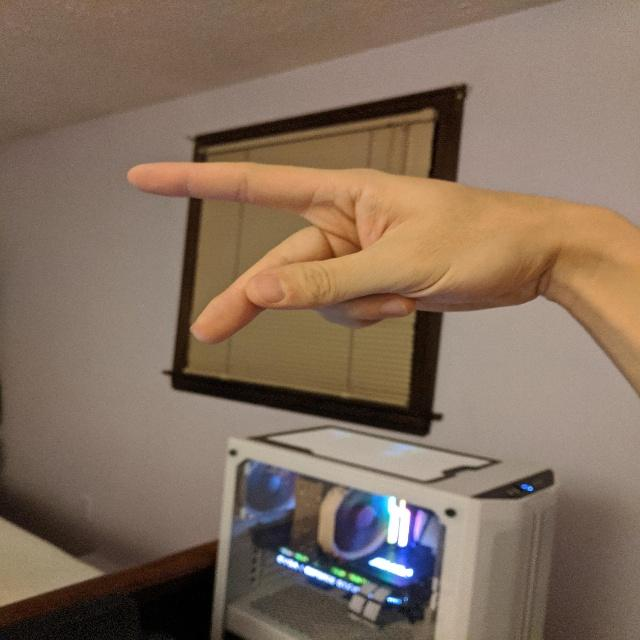P: (122, 156, 558, 352)
